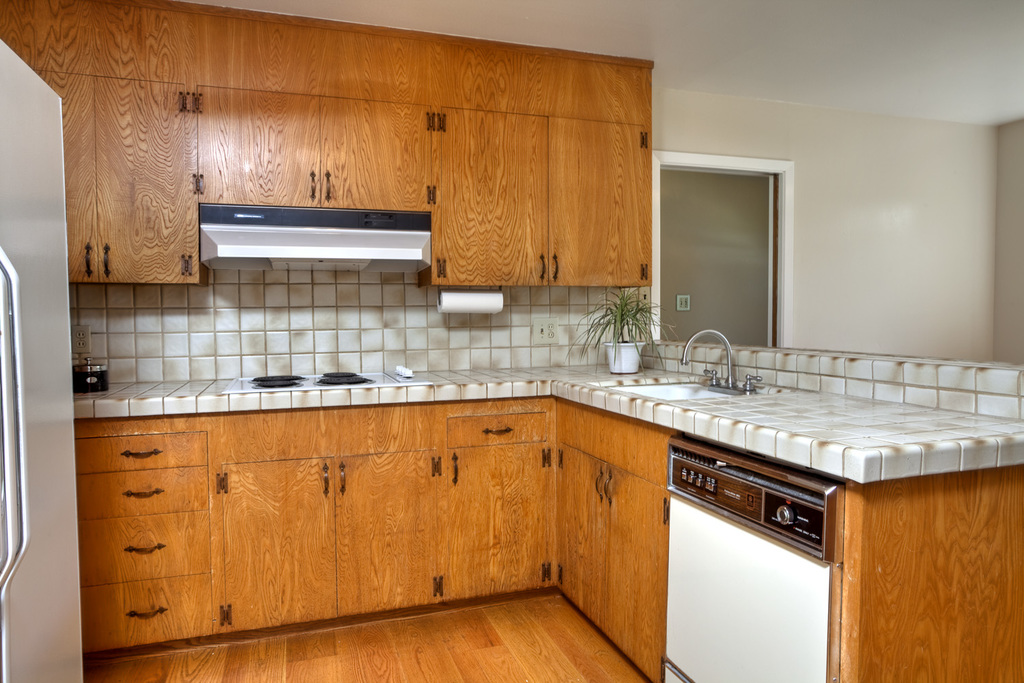cabinet door: (99, 84, 195, 282), (440, 118, 548, 287), (553, 120, 653, 288), (234, 471, 331, 603), (204, 91, 318, 200), (343, 460, 425, 595), (452, 454, 538, 572), (324, 111, 422, 210), (607, 471, 662, 644), (91, 524, 210, 574), (566, 457, 606, 599), (89, 591, 207, 633), (87, 476, 200, 508), (93, 439, 204, 466), (450, 416, 539, 440)
handle: (0, 249, 44, 590), (119, 539, 168, 558), (123, 604, 170, 620), (124, 488, 166, 504), (99, 242, 114, 281), (321, 173, 339, 205), (118, 445, 162, 458), (317, 467, 334, 496), (601, 473, 615, 508), (82, 245, 97, 276), (450, 452, 462, 489), (337, 463, 350, 497), (481, 425, 514, 437), (550, 249, 562, 281), (594, 467, 604, 503), (306, 169, 318, 199), (539, 248, 546, 287)
refrigerator door: (4, 61, 87, 675)
